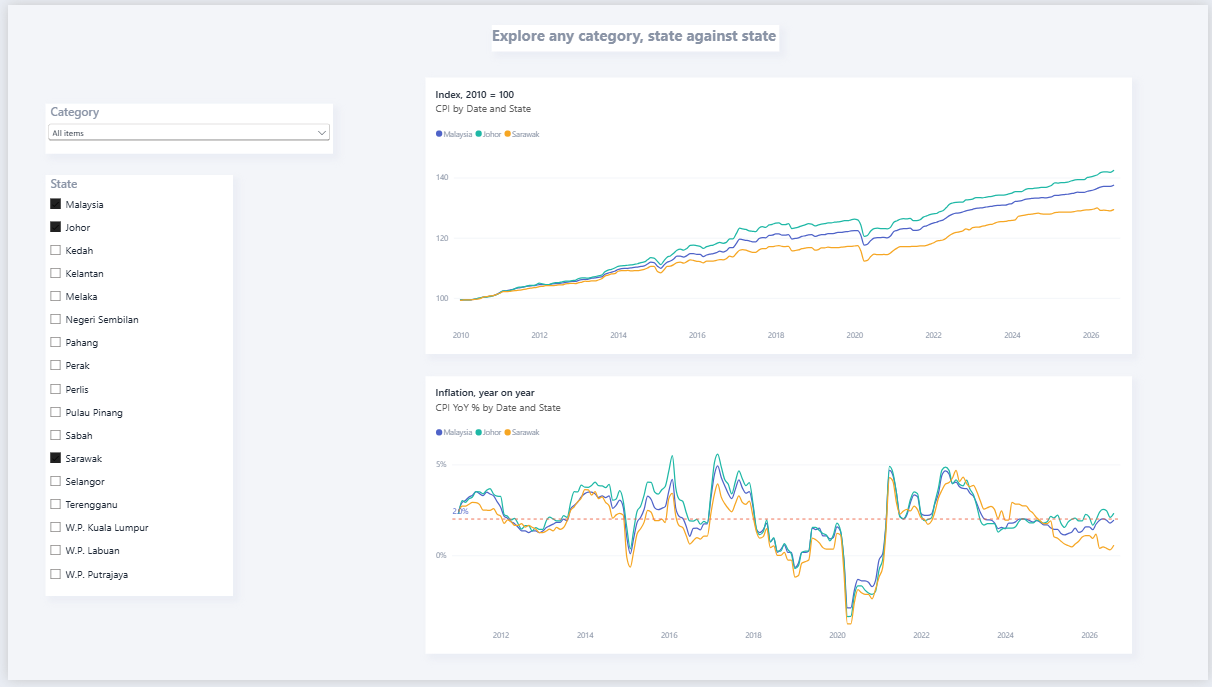

The dashboard page shown, as its layout file describes it:
{"tool":"powerbi","page":{"name":"Explorer","canvas":[1920,1080],"ordinal":3},"visuals":[{"type":"textbox","box":[774,32,460,42],"z":0},{"type":"slicer","fields":{"Values":["DimCategory.Category"]},"box":[60,158,460,80],"z":1000},{"type":"slicer","fields":{"Values":["DimGeography.State"]},"box":[60,272,300,673.3],"z":2000},{"type":"lineChart","title":"Index, 2010 = 100","fields":{"Category":["DimDate.Date"],"Series":["DimGeography.State"],"Y":["Measures (2).CPI"]},"box":[668,116,1130,442],"z":2001},{"type":"lineChart","title":"Inflation, year on year","fields":{"Category":["DimDate.Date"],"Series":["DimGeography.State"],"Y":["Measures (2).CPI YoY %"]},"box":[668,594,1130,444],"z":2002}]}

Visuals, with their boxes on the page's 1920x1080 design canvas (x1, y1, x2, y2). These are canvas units, not pixel positions in the 1212x687 screenshot, which may show the page scaled, cropped or inside an application window:
textbox: [774, 32, 1234, 74]
slicer - DimCategory.Category: [60, 158, 520, 238]
slicer - DimGeography.State: [60, 272, 360, 945]
"Index, 2010 = 100" lineChart: [668, 116, 1798, 558]
"Inflation, year on year" lineChart: [668, 594, 1798, 1038]
